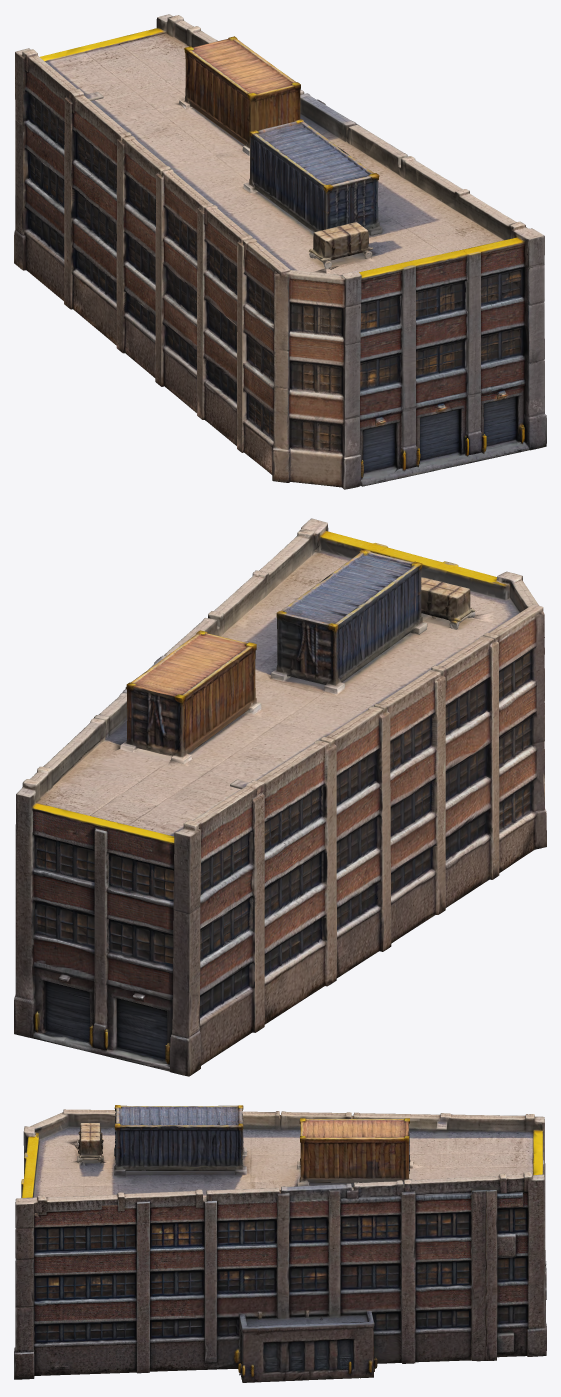
The model's file is roof-03.glb.
3 views of the same model, one above another, from view 1: azimuth 30°, elevation 25°; view 2: azimuth 150°, elevation 25°; view 3: azimuth 270°, elevation 25° (orthographic). The views are drawn at different scales.
Visible parts, largest first — view 1: tripo_node_af5d164f-6fb5-43e9-bff0-eee4f33cc2f7; view 2: tripo_node_af5d164f-6fb5-43e9-bff0-eee4f33cc2f7; view 3: tripo_node_af5d164f-6fb5-43e9-bff0-eee4f33cc2f7.
Boxes of the visible parts, bbox=[...] form: tripo_node_af5d164f-6fb5-43e9-bff0-eee4f33cc2f7: bbox=[14, 14, 546, 489]; tripo_node_af5d164f-6fb5-43e9-bff0-eee4f33cc2f7: bbox=[14, 518, 546, 1076]; tripo_node_af5d164f-6fb5-43e9-bff0-eee4f33cc2f7: bbox=[14, 1105, 546, 1382].
Size of the model in its own units: 0.4485 by 0.4283 by 0.979.
1 material, 1 textured.
